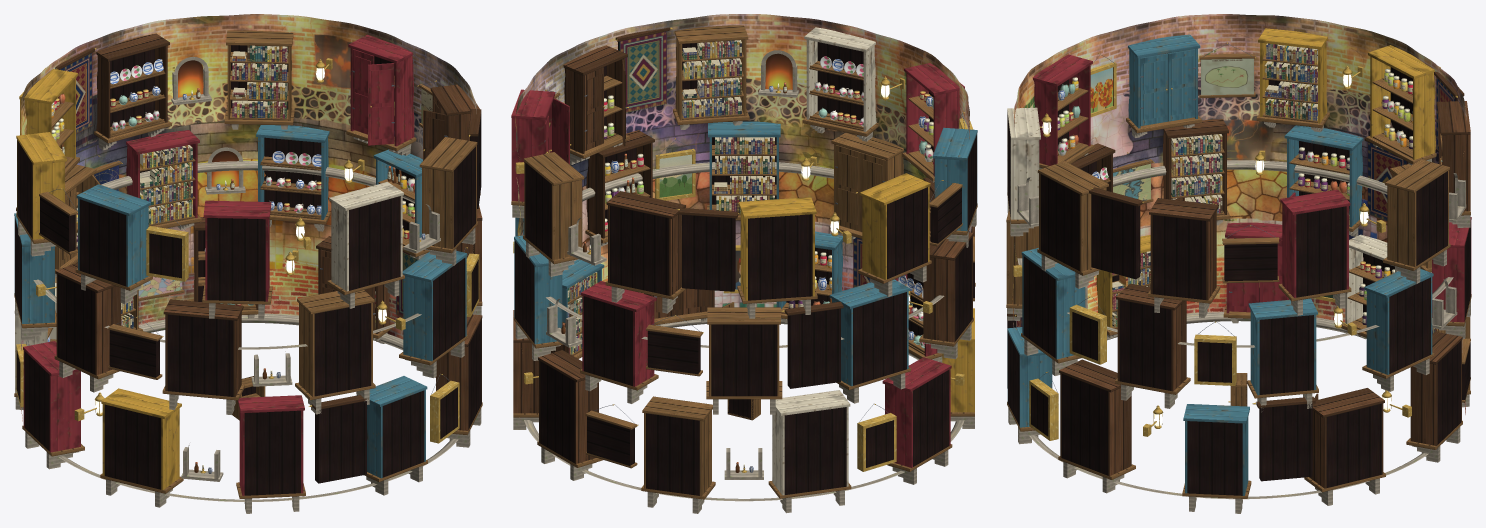
The model's file is ch1_s3_well.glb.
3 renders of one model, left to right at view 1: azimuth 30°, elevation 25°; view 2: azimuth 150°, elevation 25°; view 3: azimuth 270°, elevation 25°, orthographic.
Parts seen in each view (by area): view 1: S3_WellSegment_Wood, S3_WellSegment_Wall3, S3_WellSegment_Stone, S3_WellSegment_Books, S3_WellSegment_Brass, S3_WellSegment_Pres, S3_WellSegment_Wall2, S3_WellSegment_Tap, S3_WellSegment_Art, S3_WellSegment_Glow; view 2: S3_WellSegment_Wood, S3_WellSegment_Wall0, S3_WellSegment_Stone, S3_WellSegment_Books, S3_WellSegment_Wall1, S3_WellSegment_Pres, S3_WellSegment_Tap, S3_WellSegment_Brass, S3_WellSegment_Art, S3_WellSegment_Wall3, S3_ReturnCupboard; view 3: S3_WellSegment_Wood, S3_WellSegment_Wall2, S3_WellSegment_Wall1, S3_WellSegment_Stone, S3_WellSegment_Books, S3_WellSegment_Brass, S3_WellSegment_Pres, S3_WellSegment_Art, S3_WellSegment_Tap, S3_WellSegment_Glow, S3_ReturnCupboard.
Boxes of the visible parts, <box> form: S3_WellSegment_Wood: <box>14,30,482,498</box>; S3_WellSegment_Wall3: <box>134,14,445,339</box>; S3_WellSegment_Stone: <box>15,57,481,513</box>; S3_WellSegment_Books: <box>121,45,287,328</box>; S3_WellSegment_Brass: <box>16,48,479,473</box>; S3_WellSegment_Pres: <box>47,59,425,473</box>; S3_WellSegment_Wall2: <box>20,26,135,421</box>; S3_WellSegment_Tap: <box>60,53,417,317</box>; S3_WellSegment_Art: <box>94,88,432,298</box>; S3_WellSegment_Glow: <box>95,68,386,464</box>; S3_WellSegment_Wood: <box>511,25,977,499</box>; S3_WellSegment_Wall0: <box>547,14,857,307</box>; S3_WellSegment_Stone: <box>512,50,976,513</box>; S3_WellSegment_Books: <box>567,40,774,354</box>; S3_WellSegment_Wall1: <box>856,27,971,232</box>; S3_WellSegment_Pres: <box>561,56,933,472</box>; S3_WellSegment_Tap: <box>619,31,870,287</box>; S3_WellSegment_Brass: <box>513,27,973,472</box>; S3_WellSegment_Art: <box>556,97,961,289</box>; S3_WellSegment_Wall3: <box>515,62,549,419</box>; S3_ReturnCupboard: <box>727,399,760,420</box>; S3_WellSegment_Wood: <box>1006,28,1471,498</box>; S3_WellSegment_Wall2: <box>1239,14,1466,409</box>; S3_WellSegment_Wall1: <box>1013,14,1238,326</box>; S3_WellSegment_Stone: <box>1007,121,1470,513</box>; S3_WellSegment_Books: <box>1112,43,1436,333</box>; S3_WellSegment_Brass: <box>1013,42,1457,440</box>; S3_WellSegment_Pres: <box>1057,68,1442,325</box>; S3_WellSegment_Art: <box>1090,58,1333,298</box>; S3_WellSegment_Tap: <box>1016,77,1455,327</box>; S3_WellSegment_Glow: <box>1042,74,1391,426</box>; S3_ReturnCupboard: <box>1230,373,1247,406</box>.
Size of the model in its own units: 8.34 by 6.07 by 8.35.
Materials: 12 (12 with a texture image).
